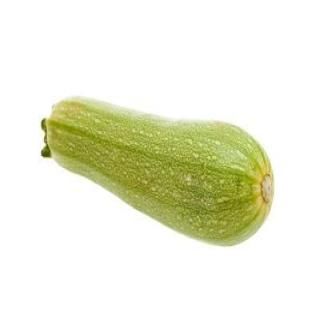Zucchini: (42, 98, 273, 244)
